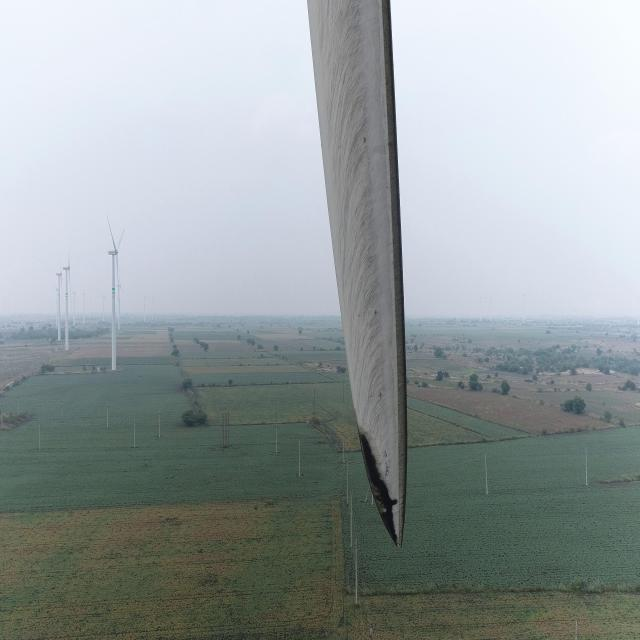Dirt: (308, 0, 410, 538)
Oil LEAKAGE: (355, 431, 401, 544)
Pin Hole: (389, 496, 400, 510)
